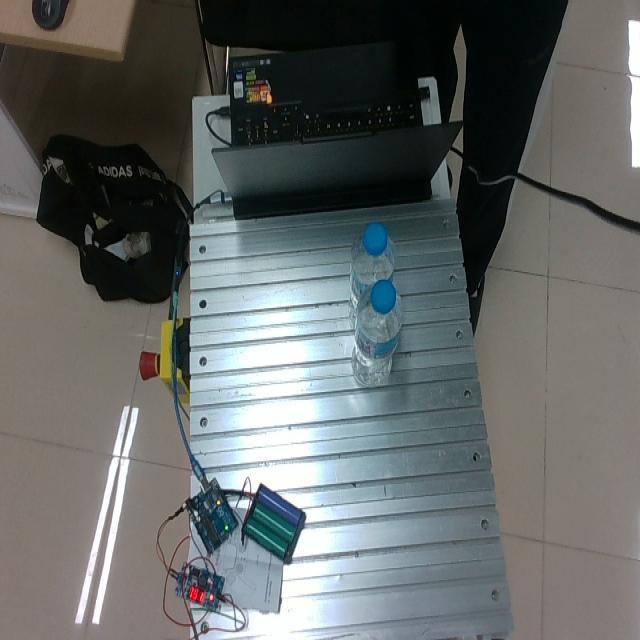lavie: (351, 277, 401, 387), (348, 222, 395, 322)
